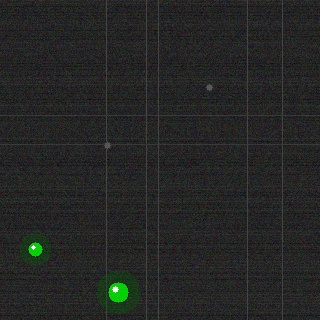green_normal: (106, 280, 130, 304), (26, 240, 44, 258)
